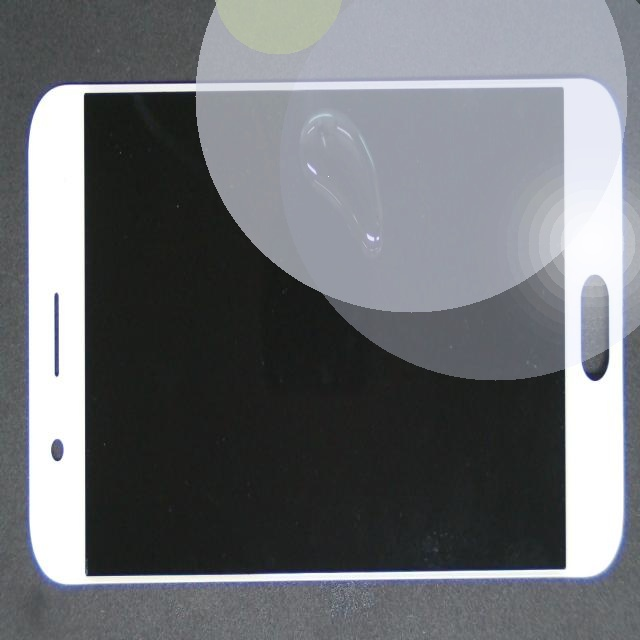oil: (181, 45, 488, 171)
